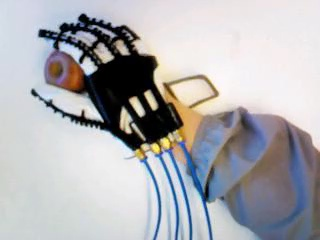apple: (42, 50, 86, 97)
hand: (32, 10, 183, 163)
